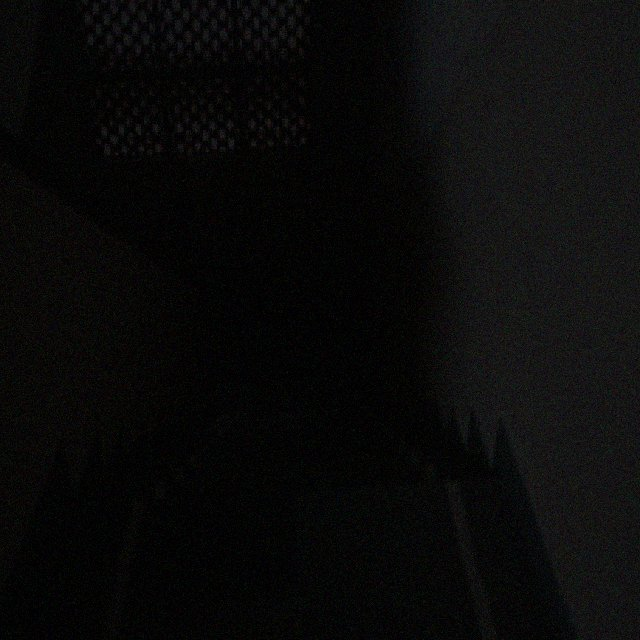stair: (34, 380, 549, 639)
